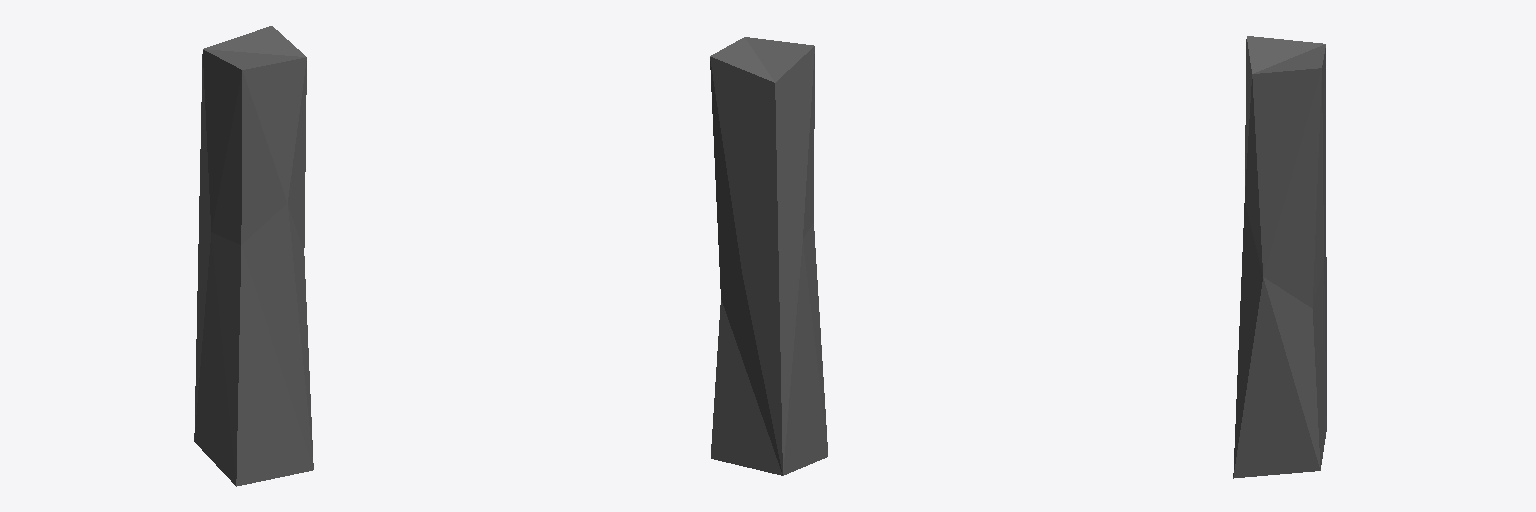
Rendered from stone2.obj.
The picture shows the model from 3 angles: view 1: azimuth 30°, elevation 25°; view 2: azimuth 150°, elevation 25°; view 3: azimuth 270°, elevation 25°; orthographic projection.
Parts seen in each view (by area): view 1: stone2_Mesh.022; view 2: stone2_Mesh.022; view 3: stone2_Mesh.022.
Boxes of the visible parts, box(x1,y1,x2,y2) form: stone2_Mesh.022: box(194, 26, 313, 486); stone2_Mesh.022: box(710, 37, 827, 475); stone2_Mesh.022: box(1233, 36, 1326, 478).
Bounding box in the file's own units: 7.58 × 37.24 × 7.66.